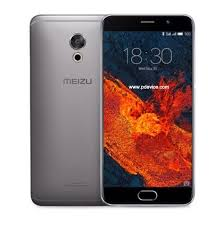meizu: (28, 10, 195, 208), (101, 11, 193, 206), (27, 10, 100, 205)
